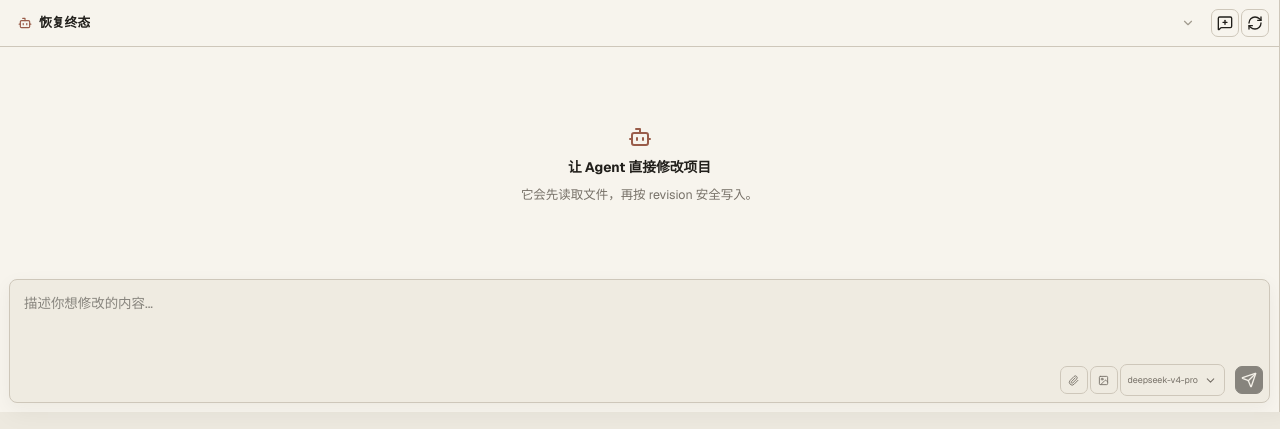
it: AgentPanel › 显式选择历史会话后不被迟到的首屏默认加载覆盖
Check: the text "恢复终态" is shown, box left=39, top=13, right=90, bottom=33
Click the button with aria-label "查看会话历史".
click(65, 23)  # box left=10, top=6, right=1203, bottom=40
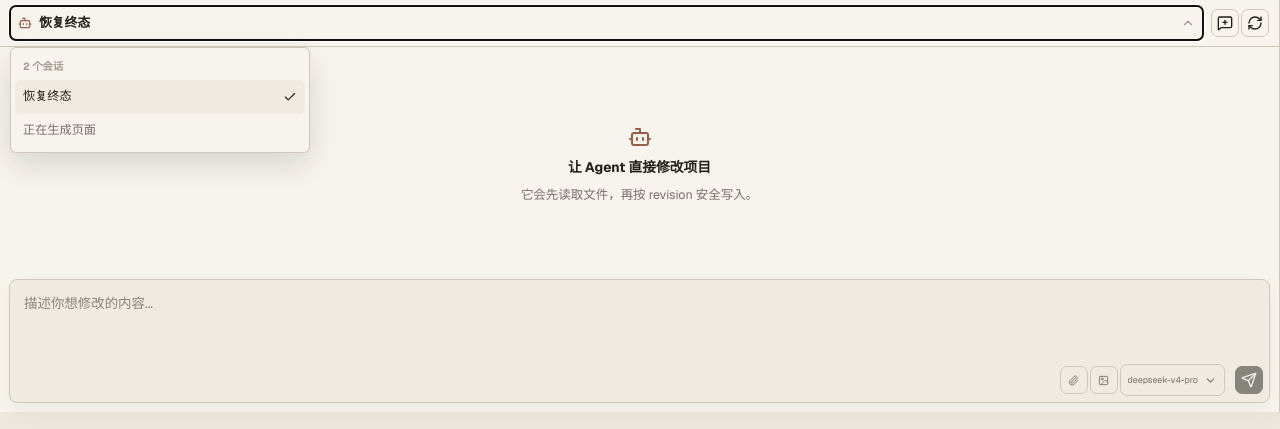
Click the button "正在生成页面".
click(59, 130)  # box left=15, top=114, right=305, bottom=148
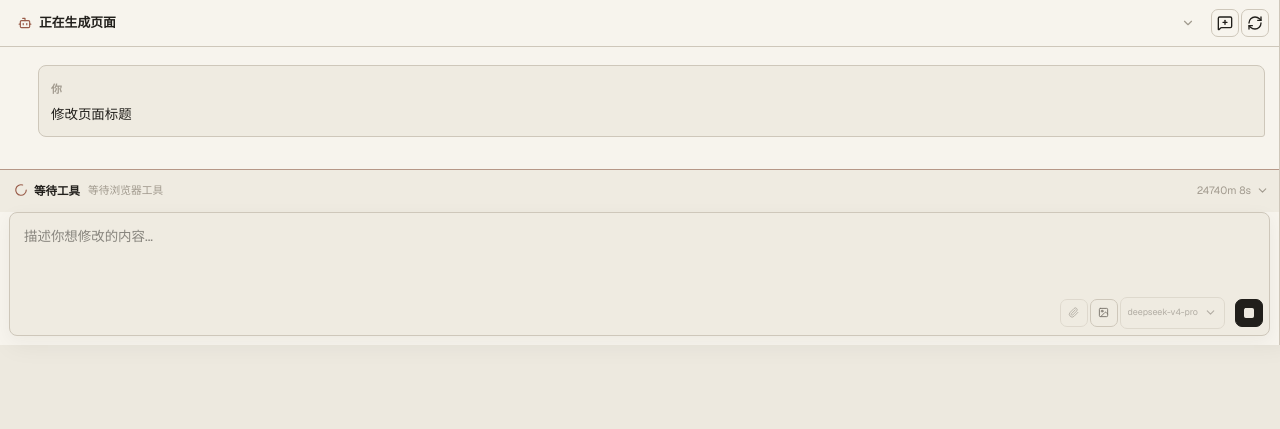
Check: the text "正在生成页面" is shown, box left=39, top=13, right=116, bottom=33
Check: the button "恢复终态" is gone
